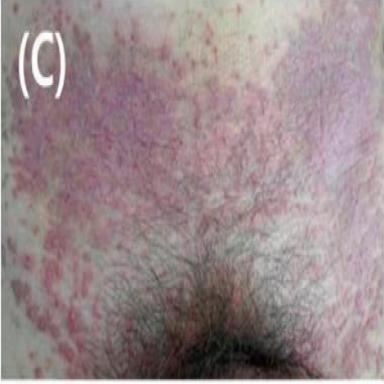Darier_s-Disease: (0, 5, 384, 383)
